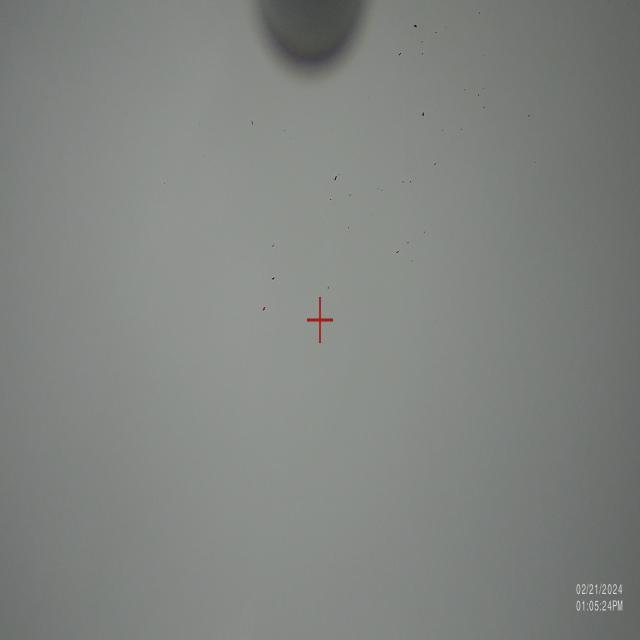broken: (212, 1, 525, 345)
